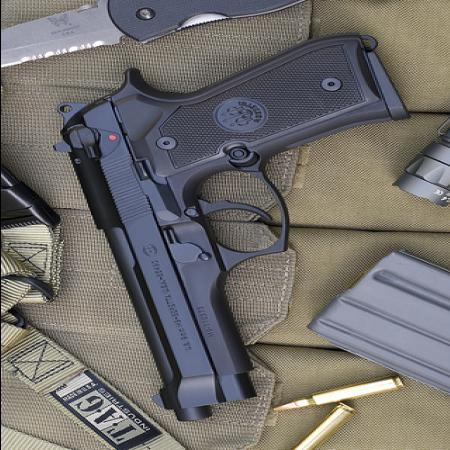Pistol: (49, 36, 404, 422)
